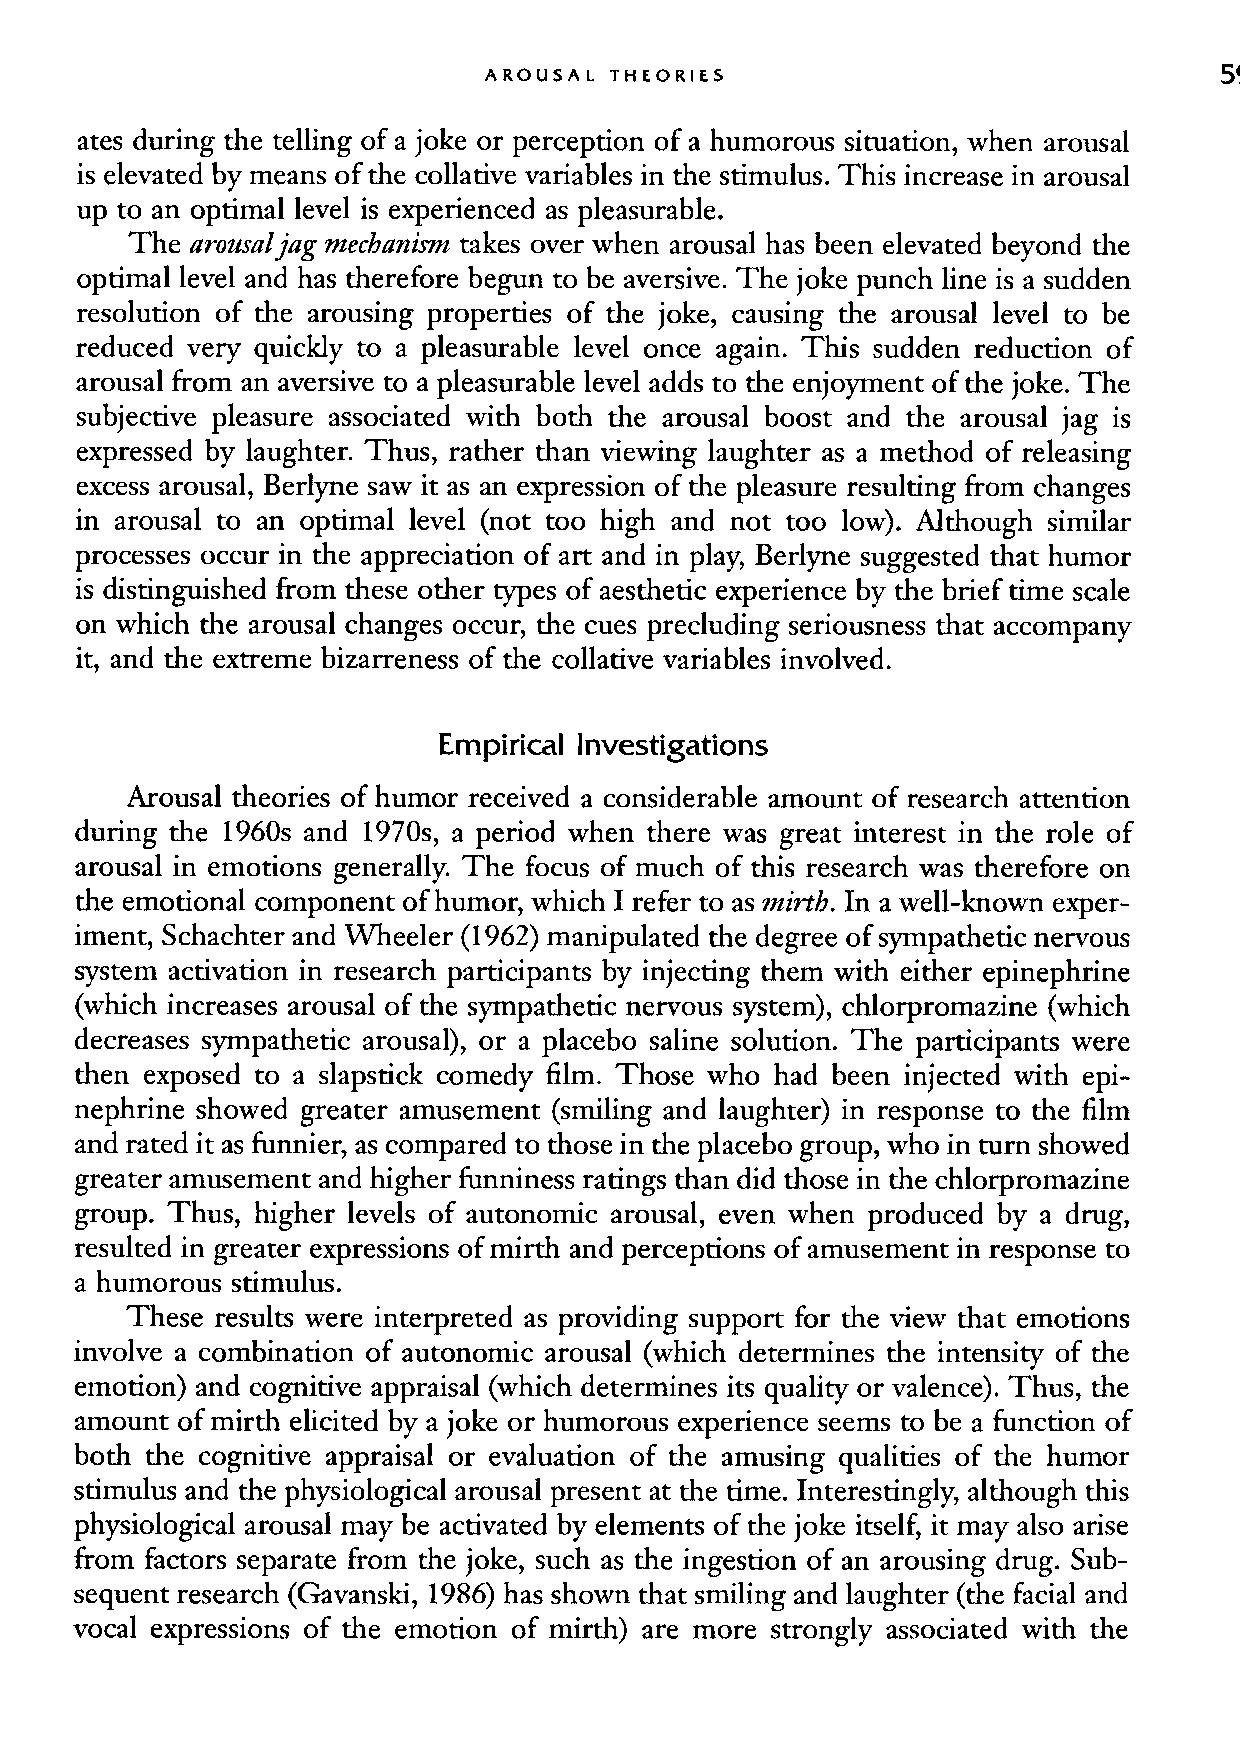chapter: (435, 727, 768, 765), (480, 63, 725, 85)
content: (72, 782, 1134, 1649), (72, 123, 1134, 675)
